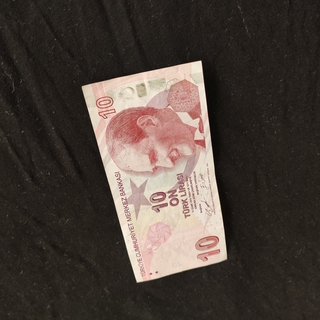10TLFront: (80, 58, 228, 284)
